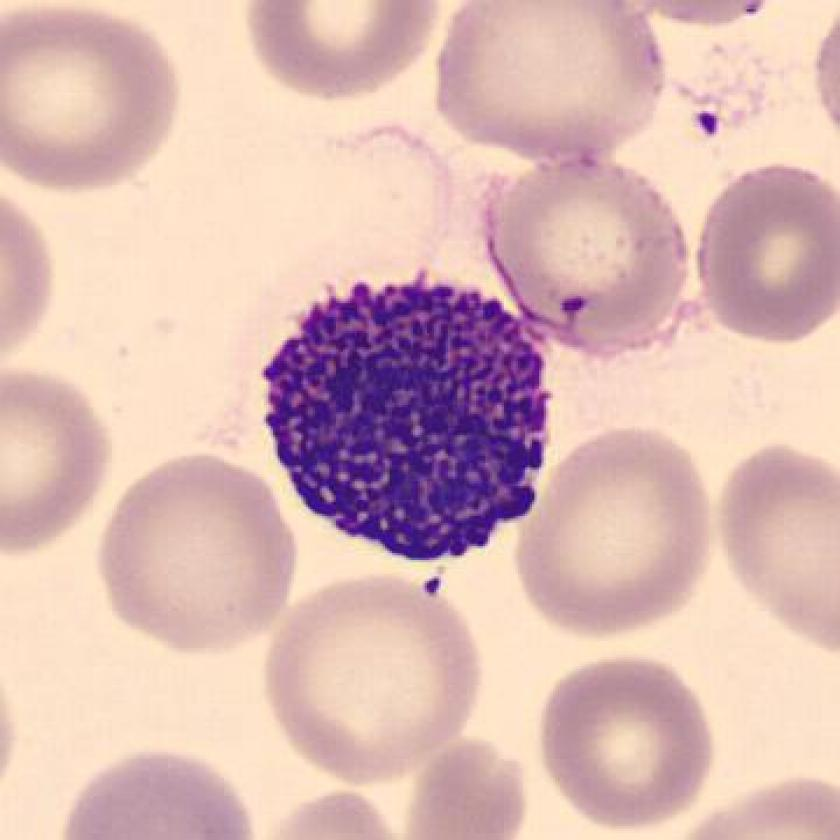basophil: (251, 272, 563, 563)
